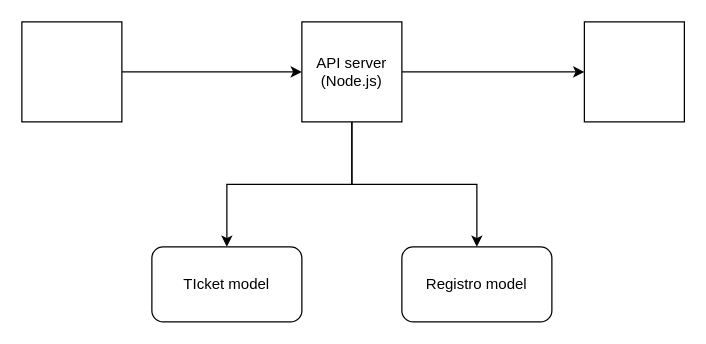
Image size: 706x344. Some labels were removed from this diagram. The centre of each missing label's shape, as x and y in pixels:
"Cliente (frontend)" goes at point 71,71.
"MongoDB (DB)" goes at point 633,71.
